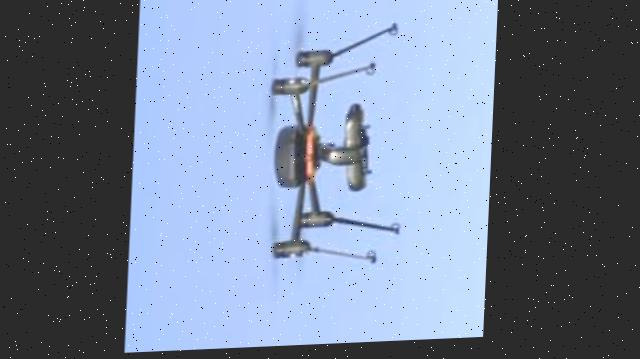drone: (234, 0, 443, 322)
